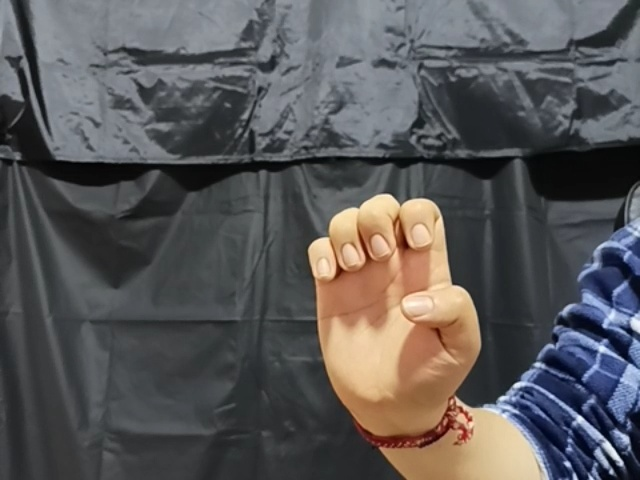E: (301, 192, 482, 424)
